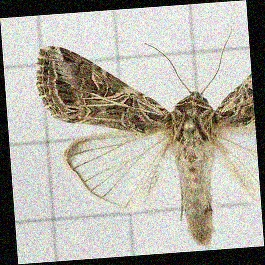Spodoptera litura: (40, 32, 256, 250)
